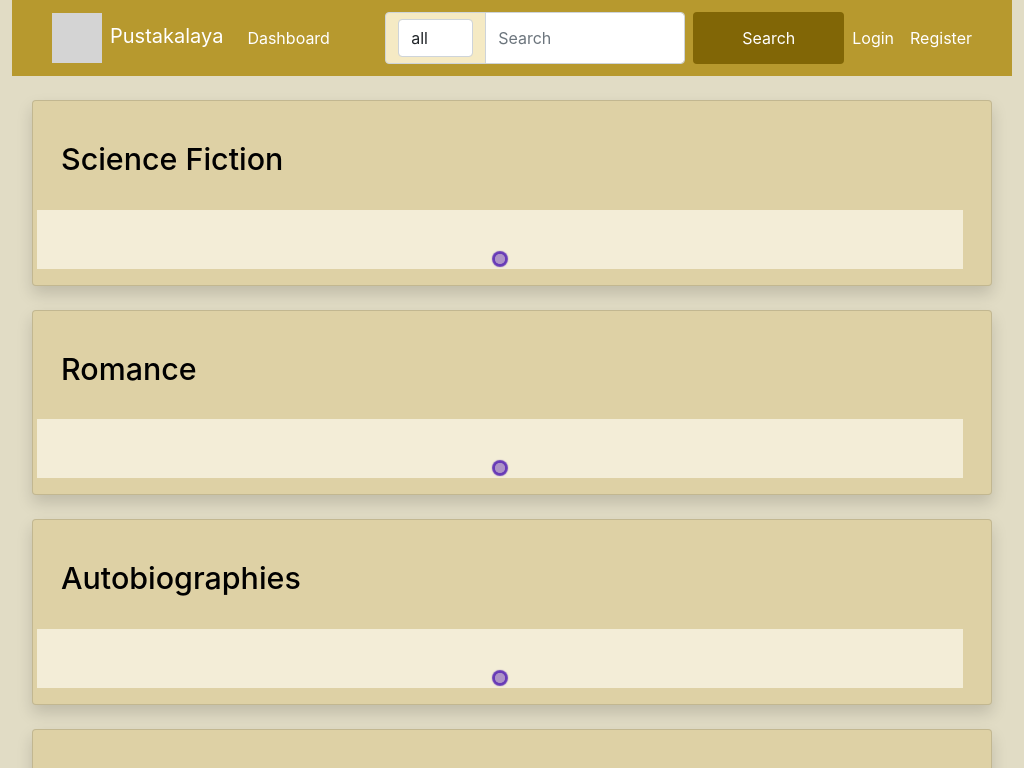
Test: SearchBar Testing E2E Test Cases › Should check if writes 'search box is empty' if click on Search button
The image size is (1024, 768).
Click the button with id "searchButton".
click(769, 38)  # box [693,12,844,64]
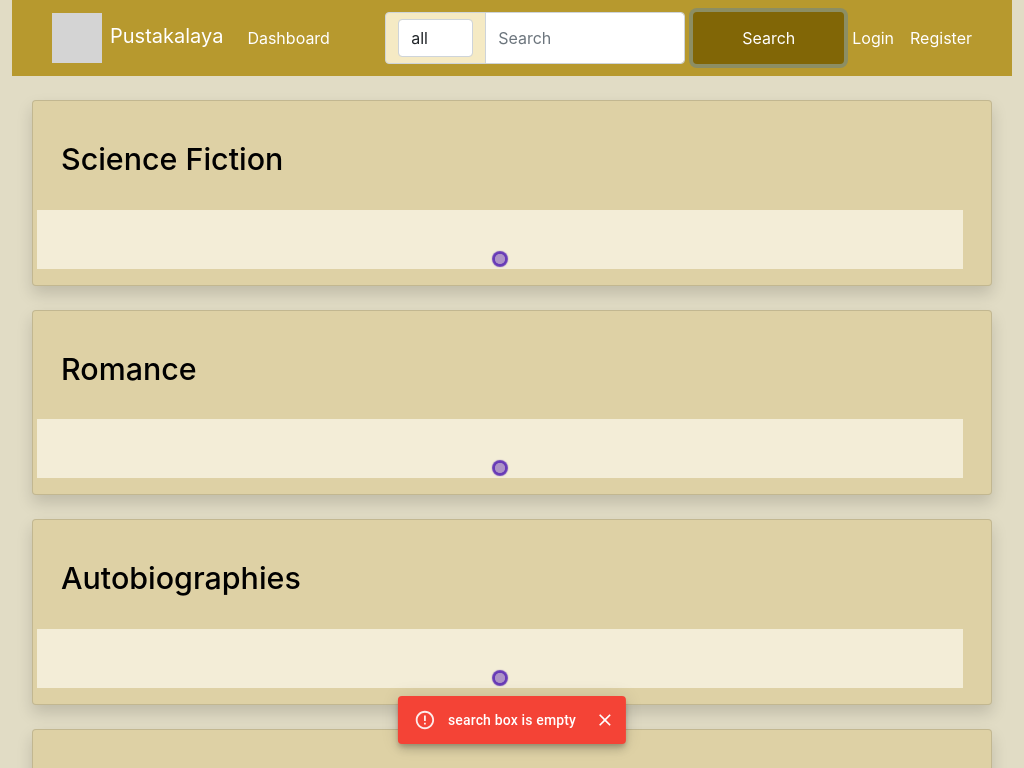
Expected: the message with id "error" reads "search box is empty", [398,696,626,744]
